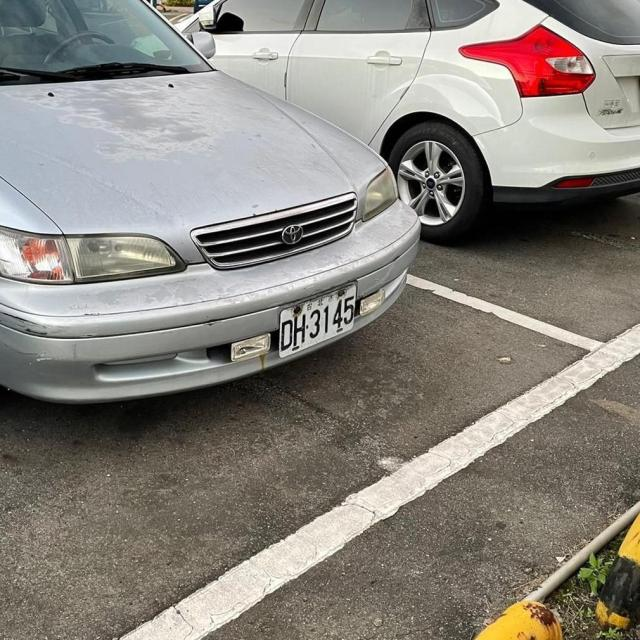W: (272, 276, 362, 364)
